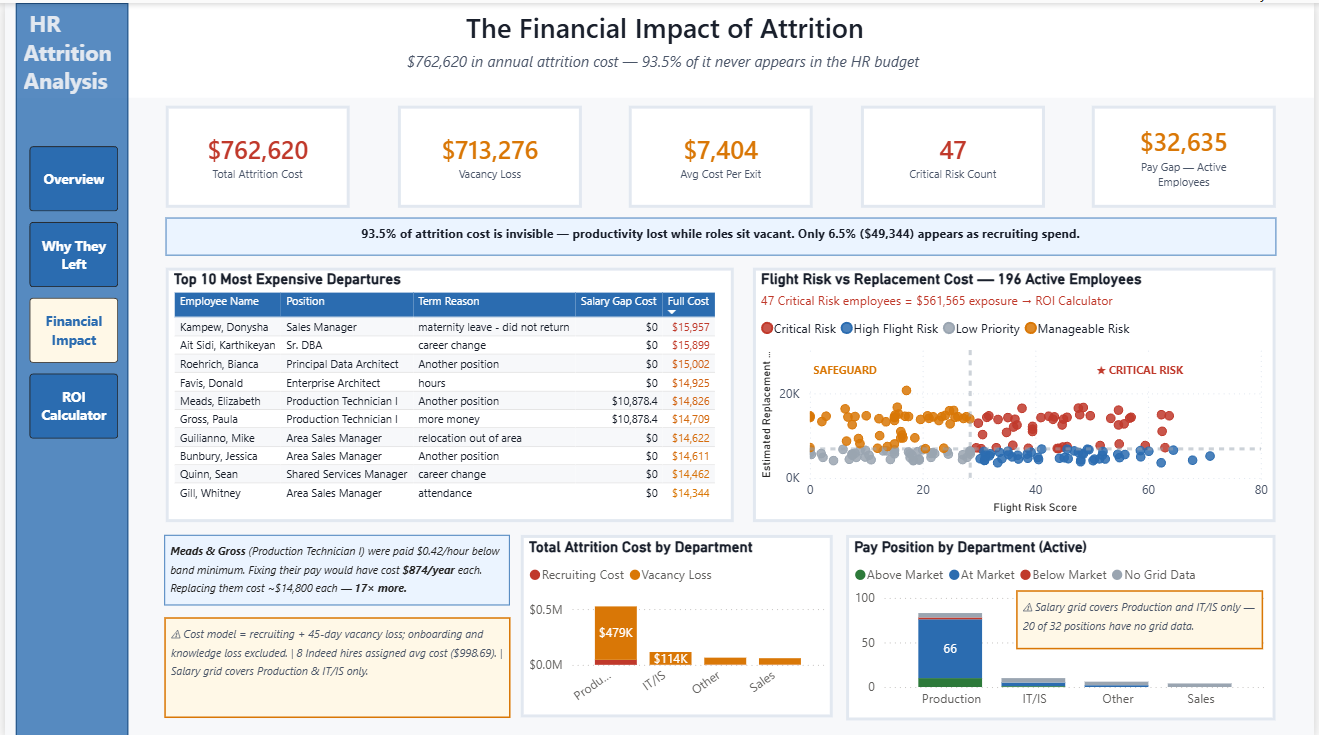

Layout of this report page (visuals, bound fields, positions):
{"tool":"powerbi","page":{"name":"Financial Impact","canvas":[1280,720],"ordinal":2},"visuals":[{"type":"textbox","box":[11,0,1269.6,57.4],"z":0},{"type":"textbox","box":[10.6,42.2,1269.8,50.2],"z":1000},{"type":"cardVisual","fields":{"Data":["_Measures.Total_Attrition_Cost(card)"]},"box":[157.1,100,180,100],"z":2000},{"type":"shape","box":[10,0,110,720],"z":3000},{"type":"textbox","box":[12.7,0,108.2,97.6],"z":4000},{"type":"pageNavigator","box":[24.2,139.3,87.8,287.7],"z":5000},{"type":"cardVisual","fields":{"Data":["_Measures.Vacancy_Loss(card)"]},"box":[383.6,100,180,100],"z":6000},{"type":"cardVisual","fields":{"Data":["_Measures.Avg_Cost_Per_Exit"]},"box":[610,100,180,100],"z":7000},{"type":"cardVisual","fields":{"Data":["_Measures.Critical_Risk_Count"]},"box":[836.4,100,180,100],"z":8000},{"type":"cardVisual","fields":{"Data":["_Measures.Total_Pay_Gap"]},"box":[1062.9,100,180,100],"z":9000},{"type":"textbox","box":[157.1,210,1085.7,37.1],"z":10000},{"type":"columnChart","title":"Total Attrition Cost by Department","fields":{"Category":["hr_master.DeptGroup"],"Y":["_Measures.Recruiting_Cost","_Measures.Vacancy_Loss"]},"box":[503.8,520,305,178.8],"z":11000},{"type":"scatterChart","title":"Flight Risk vs Replacement Cost — 196 Active Employees","fields":{"X":["Sum(risk_segments.FlightRiskScore)"],"Y":["Sum(risk_segments.EstimatedReplacementCost)"],"Series":["risk_segments.RiskQuadrant"],"Category":["hr_master.Employee_Name"]},"box":[731.4,258.6,511.4,248.6],"z":12000},{"type":"textbox","box":[1062.9,342.9,102.9,32.9],"z":13000},{"type":"textbox","box":[785.7,342.9,75.7,34.3],"z":14000},{"type":"tableEx","title":"Top 10 Most Expensive Departures","fields":{"Values":["hr_master.Employee_Name","hr_master.Position","hr_master.TermReason","Sum(hr_master.SalaryGapCost)","_Measures.Full_Cost"]},"box":[157.1,258.6,555.7,248.6],"z":15000},{"type":"textbox","box":[156.2,520,337.5,68.8],"z":16000},{"type":"columnChart","title":"Pay Position by Department (Active)","fields":{"Category":["hr_master.DeptGroup"],"Y":["CountNonNull(hr_master.EmpID)"],"Series":["hr_master.PayPosition"]},"box":[822.9,520,420,181.4],"z":17000},{"type":"textbox","box":[988.8,573.8,241.2,57.5],"z":18000},{"type":"textbox","box":[156.2,600,338.8,98.8],"z":19000}]}

Visuals, with their boxes on the page's 1280x720 design canvas (x1, y1, x2, y2). These are canvas units, not pixel positions in the 1319x735 screenshot, which may show the page scaled, cropped or inside an application window:
textbox: {"x1": 11, "y1": 0, "x2": 1281, "y2": 57}
textbox: {"x1": 11, "y1": 42, "x2": 1280, "y2": 92}
cardVisual - _Measures.Total_Attrition_Cost(card): {"x1": 157, "y1": 100, "x2": 337, "y2": 200}
shape: {"x1": 10, "y1": 0, "x2": 120, "y2": 720}
textbox: {"x1": 13, "y1": 0, "x2": 121, "y2": 98}
pageNavigator: {"x1": 24, "y1": 139, "x2": 112, "y2": 427}
cardVisual - _Measures.Vacancy_Loss(card): {"x1": 384, "y1": 100, "x2": 564, "y2": 200}
cardVisual - _Measures.Avg_Cost_Per_Exit: {"x1": 610, "y1": 100, "x2": 790, "y2": 200}
cardVisual - _Measures.Critical_Risk_Count: {"x1": 836, "y1": 100, "x2": 1016, "y2": 200}
cardVisual - _Measures.Total_Pay_Gap: {"x1": 1063, "y1": 100, "x2": 1243, "y2": 200}
textbox: {"x1": 157, "y1": 210, "x2": 1243, "y2": 247}
"Total Attrition Cost by Department" columnChart: {"x1": 504, "y1": 520, "x2": 809, "y2": 699}
"Flight Risk vs Replacement Cost — 196 Active Employees" scatterChart: {"x1": 731, "y1": 259, "x2": 1243, "y2": 507}
textbox: {"x1": 1063, "y1": 343, "x2": 1166, "y2": 376}
textbox: {"x1": 786, "y1": 343, "x2": 861, "y2": 377}
"Top 10 Most Expensive Departures" tableEx: {"x1": 157, "y1": 259, "x2": 713, "y2": 507}
textbox: {"x1": 156, "y1": 520, "x2": 494, "y2": 589}
"Pay Position by Department (Active)" columnChart: {"x1": 823, "y1": 520, "x2": 1243, "y2": 701}
textbox: {"x1": 989, "y1": 574, "x2": 1230, "y2": 631}
textbox: {"x1": 156, "y1": 600, "x2": 495, "y2": 699}
